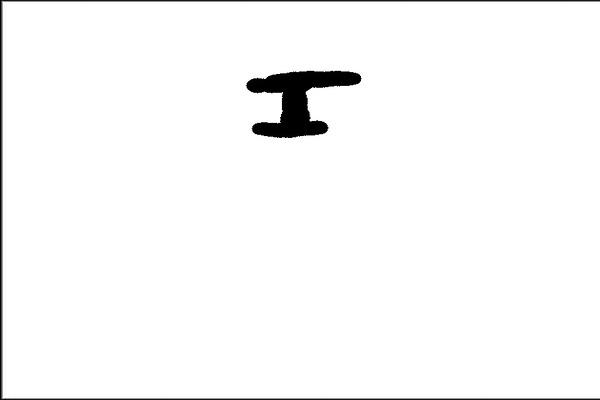i: (241, 64, 365, 140)
